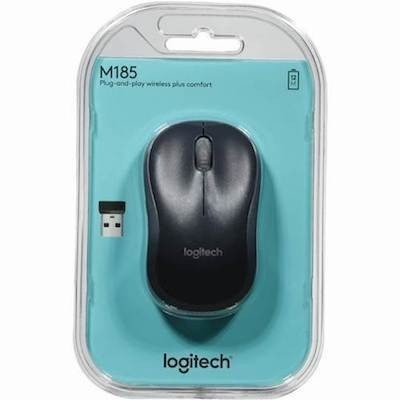logitech-mouse-m185: (98, 118, 259, 323)
